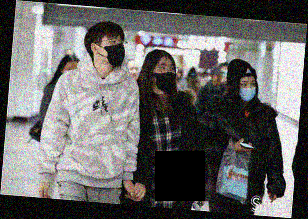with_mask: (98, 37, 127, 67), (153, 62, 176, 93), (240, 78, 257, 102)
without_mask: (127, 66, 141, 82)
